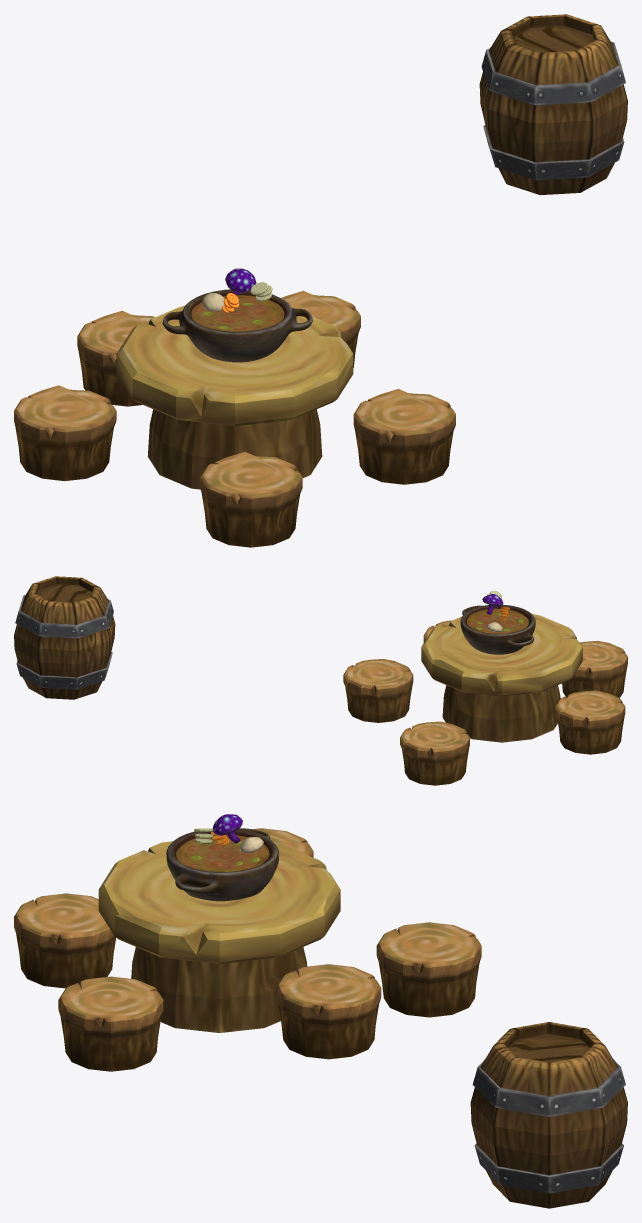
Rendered from dinningArea.glb.
3 views of the same model, one above another, from view 1: azimuth 30°, elevation 25°; view 2: azimuth 150°, elevation 25°; view 3: azimuth 270°, elevation 25° (orthographic). The views are drawn at different scales.
Visible parts, largest first — view 1: table_woodHouse_0, barrel_cooking_pot_0, chair_woodHouse_0, chair.001_woodHouse_0, chair.001_woodHouse_0.001, cooking_potFood_cooking_pot_0, chair.001_woodHouse_0.003, chair.001_woodHouse_0.002; view 2: table_woodHouse_0, barrel_cooking_pot_0, chair.001_woodHouse_0.001, chair.001_woodHouse_0.002, chair.001_woodHouse_0.003, cooking_potFood_cooking_pot_0, chair_woodHouse_0; view 3: table_woodHouse_0, barrel_cooking_pot_0, chair.001_woodHouse_0.003, chair.001_woodHouse_0, chair.001_woodHouse_0.002, chair_woodHouse_0, cooking_potFood_cooking_pot_0, chair.001_woodHouse_0.001.
Boxes of the visible parts, x1,y1,x2,y2 form: table_woodHouse_0: (116, 305, 353, 489); barrel_cooking_pot_0: (479, 14, 627, 195); chair_woodHouse_0: (200, 452, 302, 547); chair.001_woodHouse_0: (353, 389, 455, 484); chair.001_woodHouse_0.001: (14, 385, 116, 481); cooking_potFood_cooking_pot_0: (162, 268, 312, 362); chair.001_woodHouse_0.003: (77, 310, 154, 406); chair.001_woodHouse_0.002: (281, 290, 360, 367); table_woodHouse_0: (421, 614, 582, 742); barrel_cooking_pot_0: (14, 576, 115, 699); chair.001_woodHouse_0.001: (555, 690, 625, 754); chair.001_woodHouse_0.002: (343, 659, 413, 722); chair.001_woodHouse_0.003: (400, 721, 469, 785); cooking_potFood_cooking_pot_0: (460, 590, 535, 654); chair_woodHouse_0: (562, 640, 627, 697); table_woodHouse_0: (98, 841, 340, 1032); barrel_cooking_pot_0: (470, 1022, 627, 1208); chair.001_woodHouse_0.003: (376, 922, 481, 1017); chair.001_woodHouse_0: (58, 976, 163, 1071); chair.001_woodHouse_0.002: (276, 964, 381, 1059); chair_woodHouse_0: (14, 893, 115, 988); cooking_potFood_cooking_pot_0: (166, 814, 278, 901); chair.001_woodHouse_0.001: (253, 828, 313, 857).
Size of the model in its own units: 4.4 by 1.09 by 3.08.
Materials: 7 (7 with a texture image).
